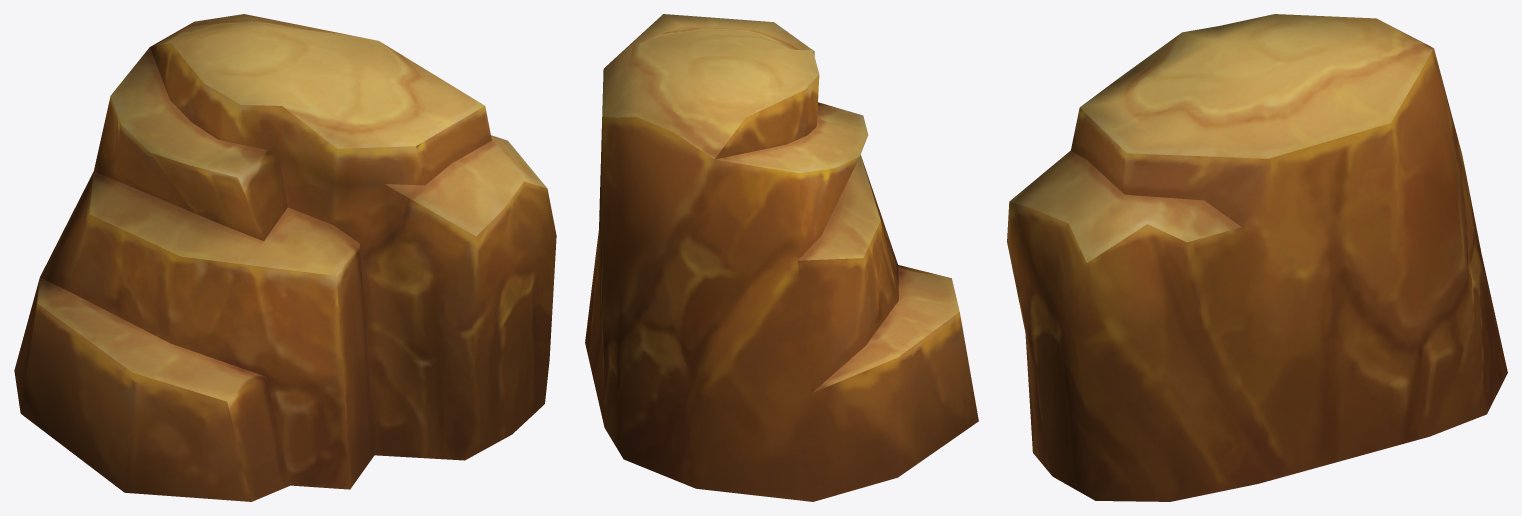
The model's file is Stage_ShaMo_ShanShi14.FBX.
The picture shows the model from 3 angles, left to right: view 1: azimuth 30°, elevation 25°; view 2: azimuth 150°, elevation 25°; view 3: azimuth 270°, elevation 25°; orthographic projection. The views are drawn at different scales.
Parts seen in each view (by area): view 1: Stage_ShaMo_ShanShi14; view 2: Stage_ShaMo_ShanShi14; view 3: Stage_ShaMo_ShanShi14.
Part boxes in pixels (<box>): Stage_ShaMo_ShanShi14: <box>14,14,556,501</box>; Stage_ShaMo_ShanShi14: <box>585,14,978,501</box>; Stage_ShaMo_ShanShi14: <box>1007,14,1507,501</box>.
Bounding box in the file's own units: 791 × 668 × 788.
